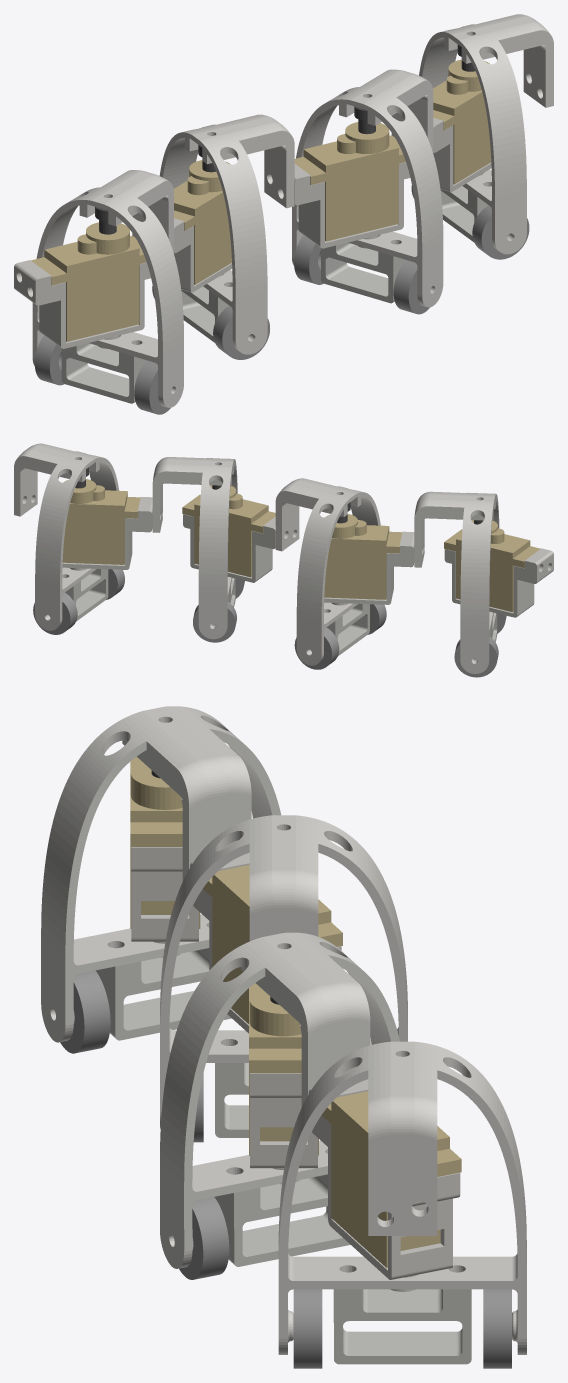
Rendered from snake_4node_serpentine.glb.
3 renders of one model, top to bottom at view 1: azimuth 30°, elevation 25°; view 2: azimuth 150°, elevation 25°; view 3: azimuth 270°, elevation 25°, orthographic. The views are drawn at different scales.
Parts seen in each view (by area): view 1: n1_rib, n3_rib, n2_rib, n0_rib, n0_mg90s, n2_mg90s, n3_mg90s, n1_mg90s, n0_coupler, n0_wire_guide, n2_wire_guide, n2_coupler (+10 smaller); view 2: n1_rib, n3_rib, n0_rib, n2_rib, n1_mg90s, n3_mg90s, n0_mg90s, n2_mg90s, n0_coupler, n2_coupler, n1_coupler, n3_coupler (+8 smaller); view 3: n3_rib, n0_rib, n2_rib, n1_rib, n3_wire_guide, n3_mg90s, n2_wire_guide, n0_wire_guide, n3_coupler, n1_mg90s, n2_coupler, n0_mg90s (+8 smaller).
Boxes of the visible parts, box(x1,y1,x2,y2) form: n1_rib: box(159, 114, 294, 354); n3_rib: box(419, 14, 553, 254); n2_rib: box(292, 69, 443, 307); n0_rib: box(32, 170, 183, 407); n0_mg90s: box(31, 222, 146, 341); n2_mg90s: box(294, 122, 405, 241); n3_mg90s: box(433, 59, 491, 184); n1_mg90s: box(173, 160, 231, 284); n0_coupler: box(14, 260, 150, 348); n0_wire_guide: box(61, 343, 146, 403); n2_wire_guide: box(321, 242, 406, 303); n2_coupler: box(294, 162, 410, 248); n1_rib: box(275, 478, 380, 665); n3_rib: box(14, 443, 119, 630); n0_rib: box(414, 491, 499, 673); n2_rib: box(152, 457, 237, 639); n1_mg90s: box(324, 514, 402, 599); n3_mg90s: box(62, 479, 140, 564); n0_mg90s: box(444, 520, 540, 612); n2_mg90s: box(182, 485, 275, 577); n0_coupler: box(444, 548, 553, 617); n2_coupler: box(183, 514, 275, 582); n1_coupler: box(324, 531, 414, 605); n3_coupler: box(62, 497, 152, 570); n3_rib: box(278, 1041, 526, 1354); n0_rib: box(41, 706, 281, 1042); n2_rib: box(160, 932, 399, 1268); n1_rib: box(160, 815, 407, 1128); n3_wire_guide: box(333, 1289, 471, 1364); n3_mg90s: box(321, 1091, 461, 1267); n2_wire_guide: box(214, 1174, 350, 1266); n0_wire_guide: box(95, 948, 231, 1040); n3_coupler: box(308, 1079, 460, 1291); n1_mg90s: box(203, 865, 342, 1023); n2_coupler: box(250, 1073, 317, 1184); n0_mg90s: box(130, 756, 200, 928).
Bounding box in the file's own units: 186 × 59.8 × 84.54.
